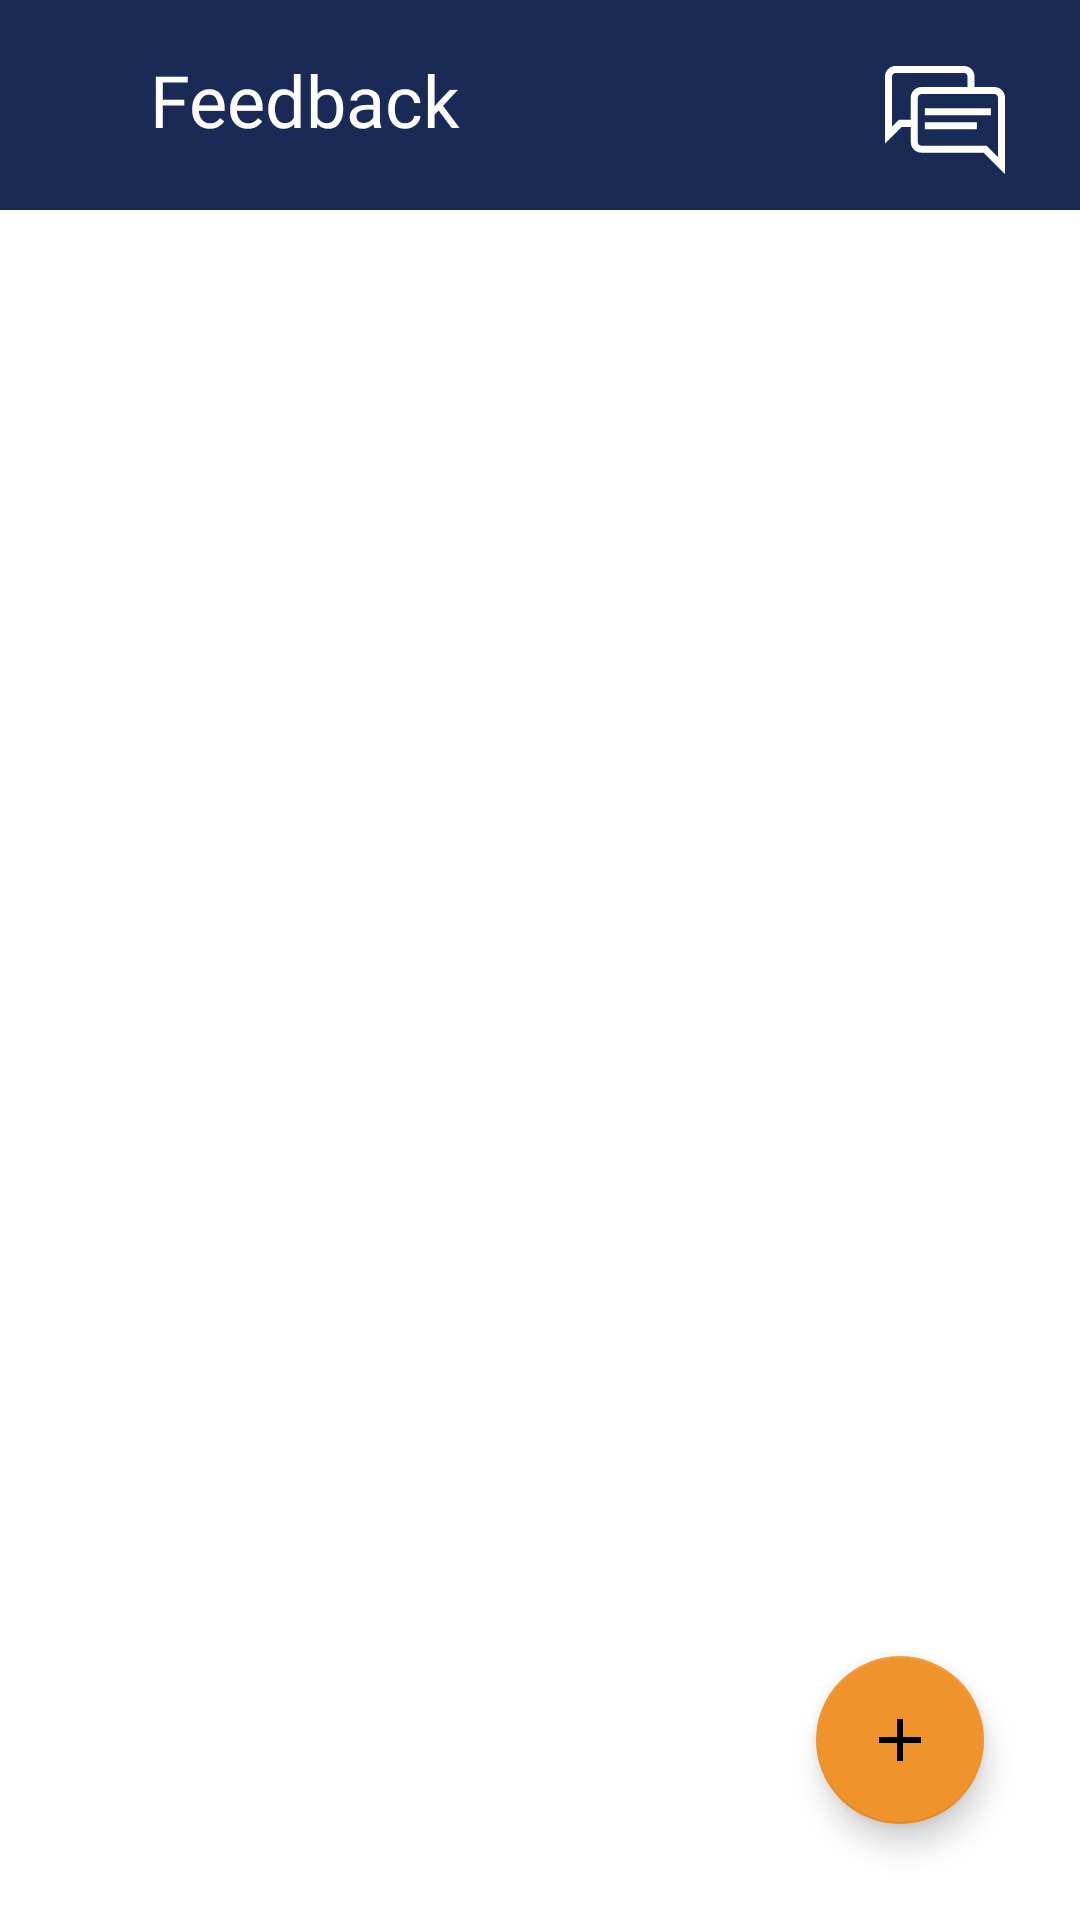

Named icons in this screenshot (1080px×1920px) and their bounding boxes, (x1=x1, y1=y1, x2=x2, y2=y2):
feedback add: (x1=816, y1=1656, x2=984, y2=1824)
